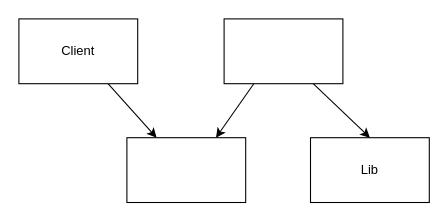
Image size: 448x221. Some labels were removed from this diagram. The centre of each missing label's shape, as x and y in pixels:
Proto: (186,169)
Server (API): (283,51)
